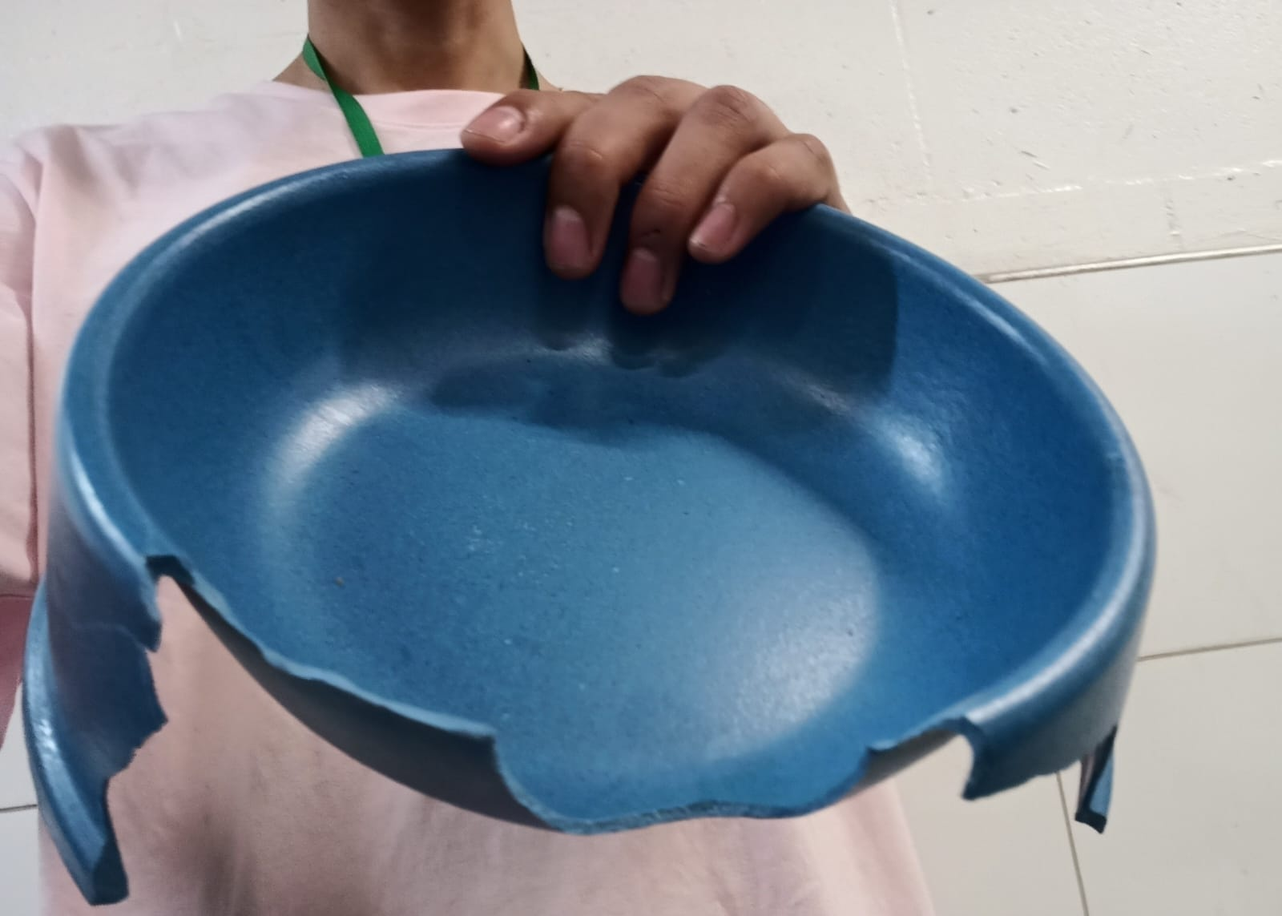Plastico: (22, 154, 1161, 907)
